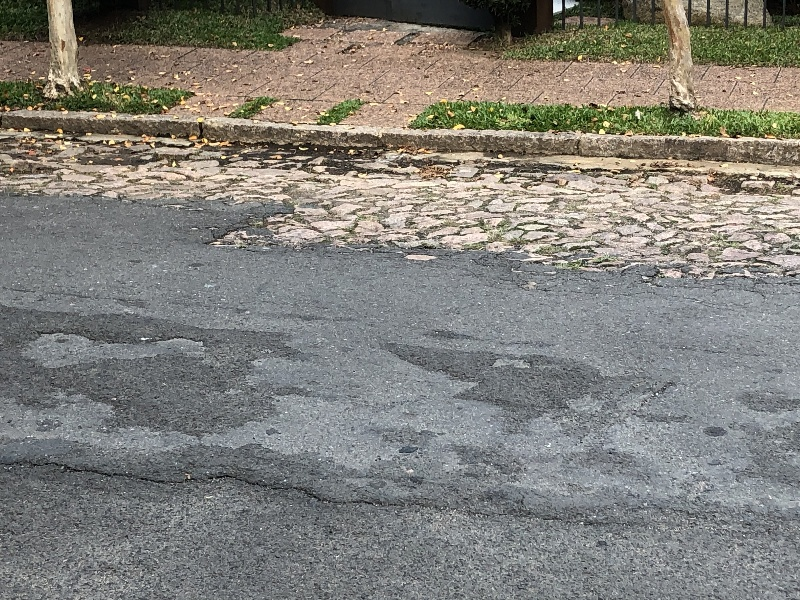v65: (5, 46, 800, 196)
